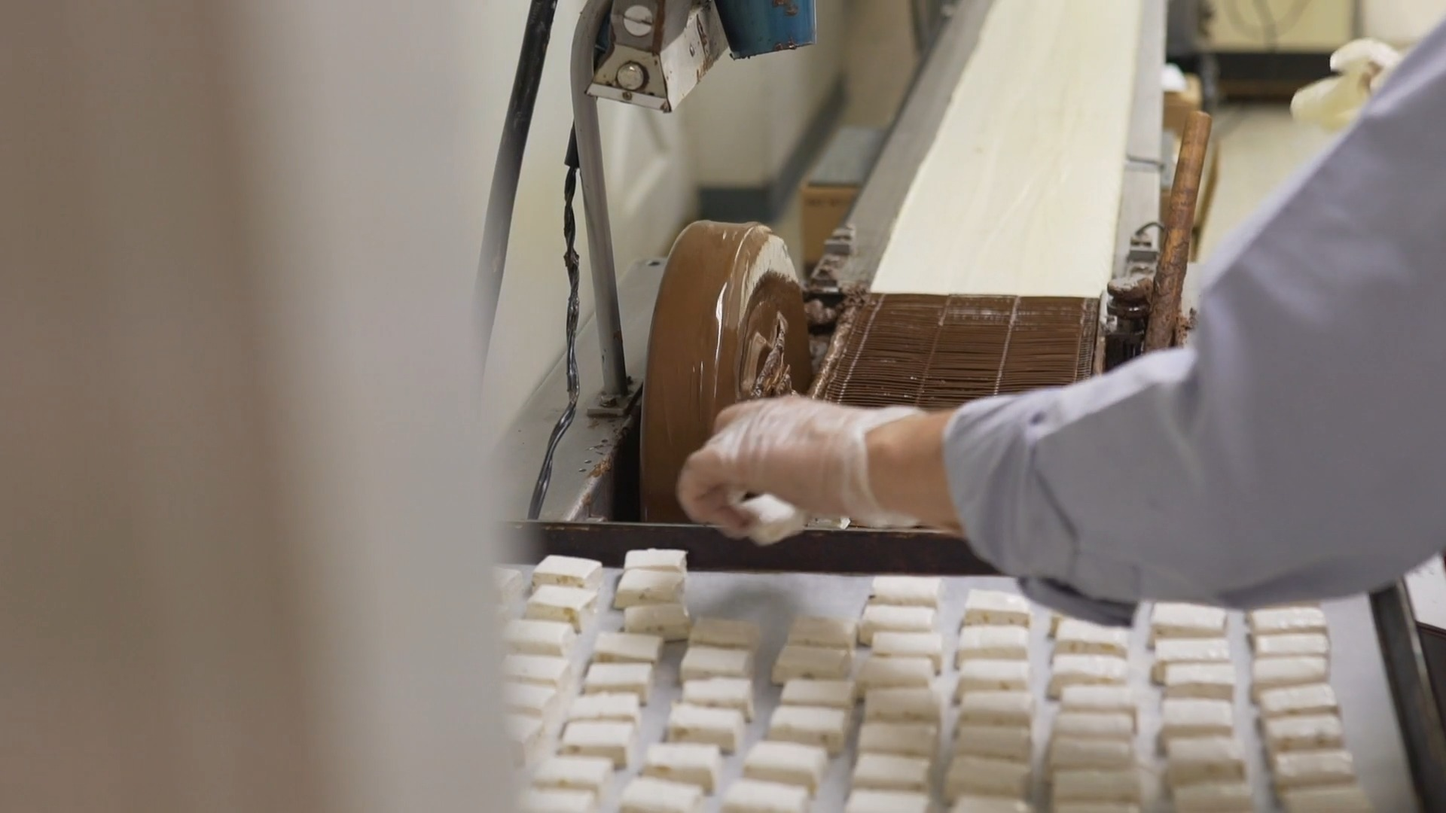gloves: (666, 363, 911, 592)
